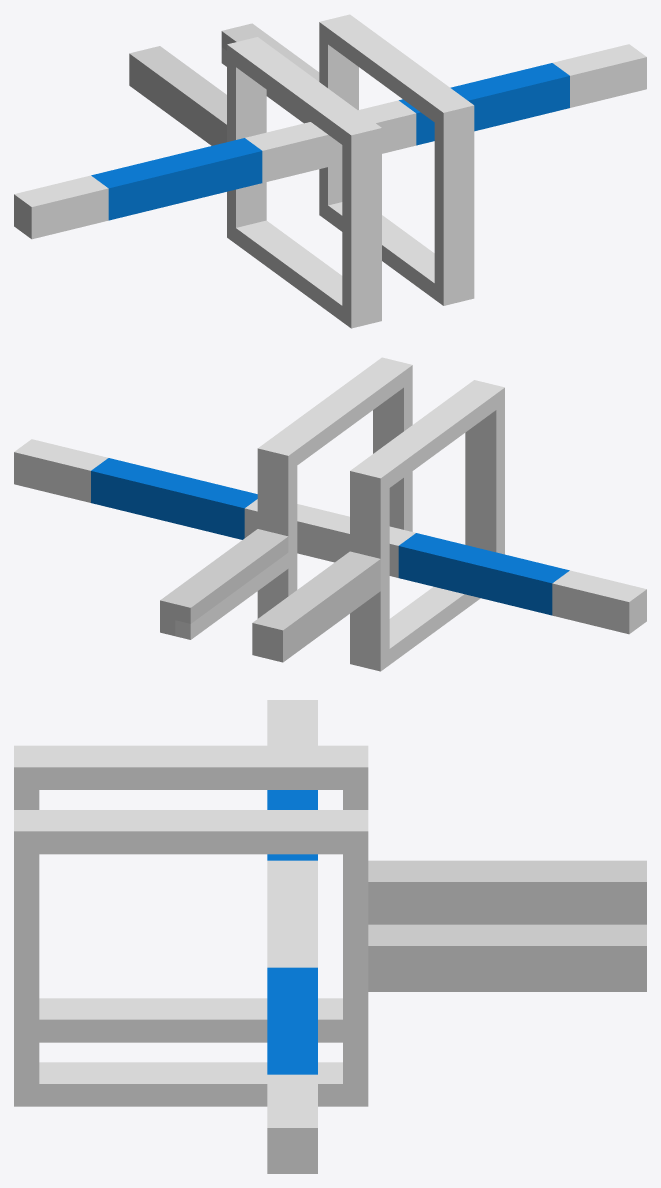
Rendered from monorail struts.obj.
The picture shows the model from 3 angles, top to bottom: view 1: azimuth 30°, elevation 25°; view 2: azimuth 150°, elevation 25°; view 3: azimuth 270°, elevation 25°; orthographic projection. The views are drawn at different scales.
Bounding box in the file's own units: 40 × 12 × 25.
Materials: 1 (1 with a texture image).
